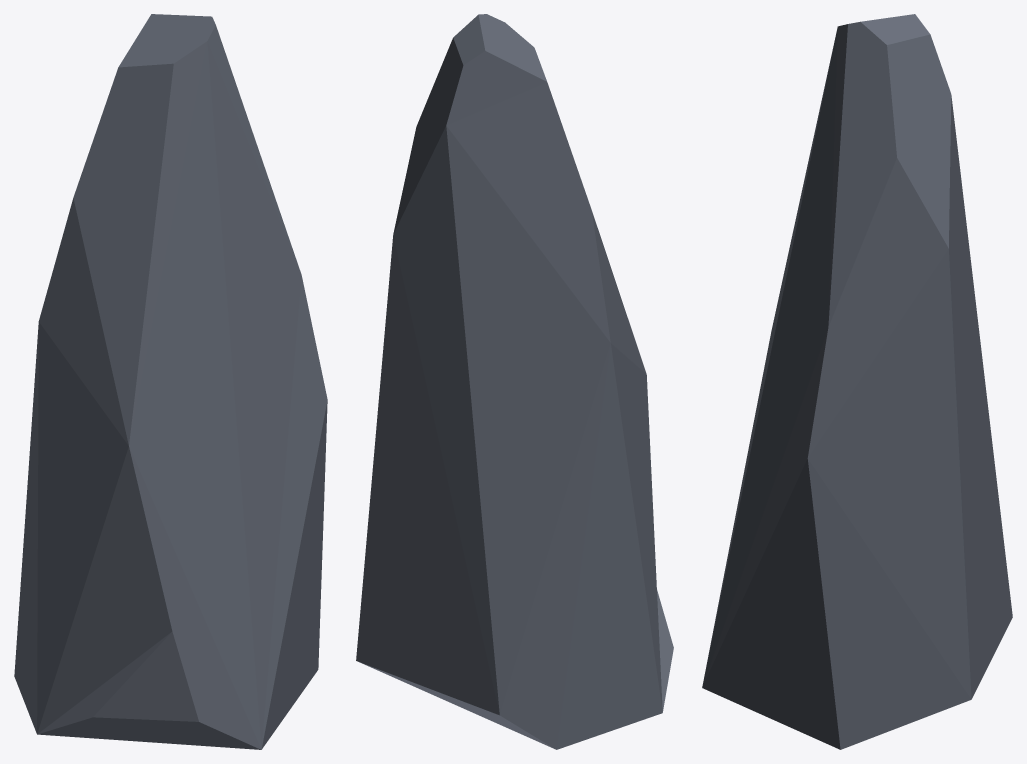
The model's file is Rock_Sharp_m_08.fbx.
3 renders of one model, left to right at view 1: azimuth 30°, elevation 25°; view 2: azimuth 150°, elevation 25°; view 3: azimuth 270°, elevation 25°, orthographic. The views are drawn at different scales.
Visible parts, largest first — view 1: Rock_Sharp_m_08; view 2: Rock_Sharp_m_08; view 3: Rock_Sharp_m_08.
Part boxes in pixels (bbox=[...]): Rock_Sharp_m_08: bbox=[14, 14, 327, 749]; Rock_Sharp_m_08: bbox=[356, 14, 673, 749]; Rock_Sharp_m_08: bbox=[702, 14, 1012, 749].
Size of the model in its own units: 0.5671 by 1.31 by 0.5411.
